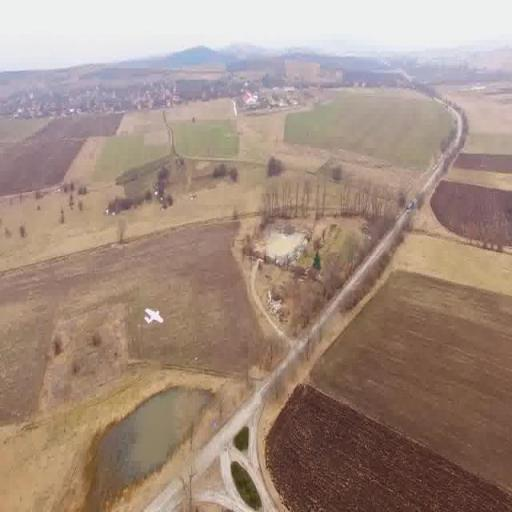uav: (136, 302, 173, 335)
